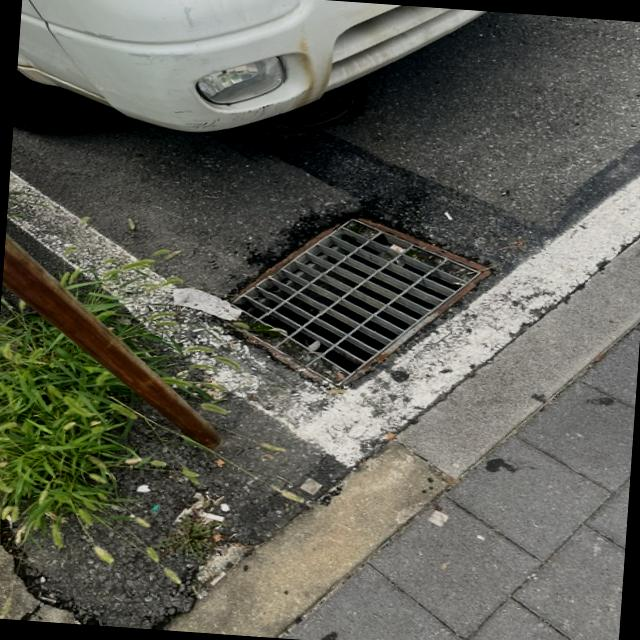drain_area: (232, 229, 463, 374)
drain_full: (216, 220, 478, 385)
